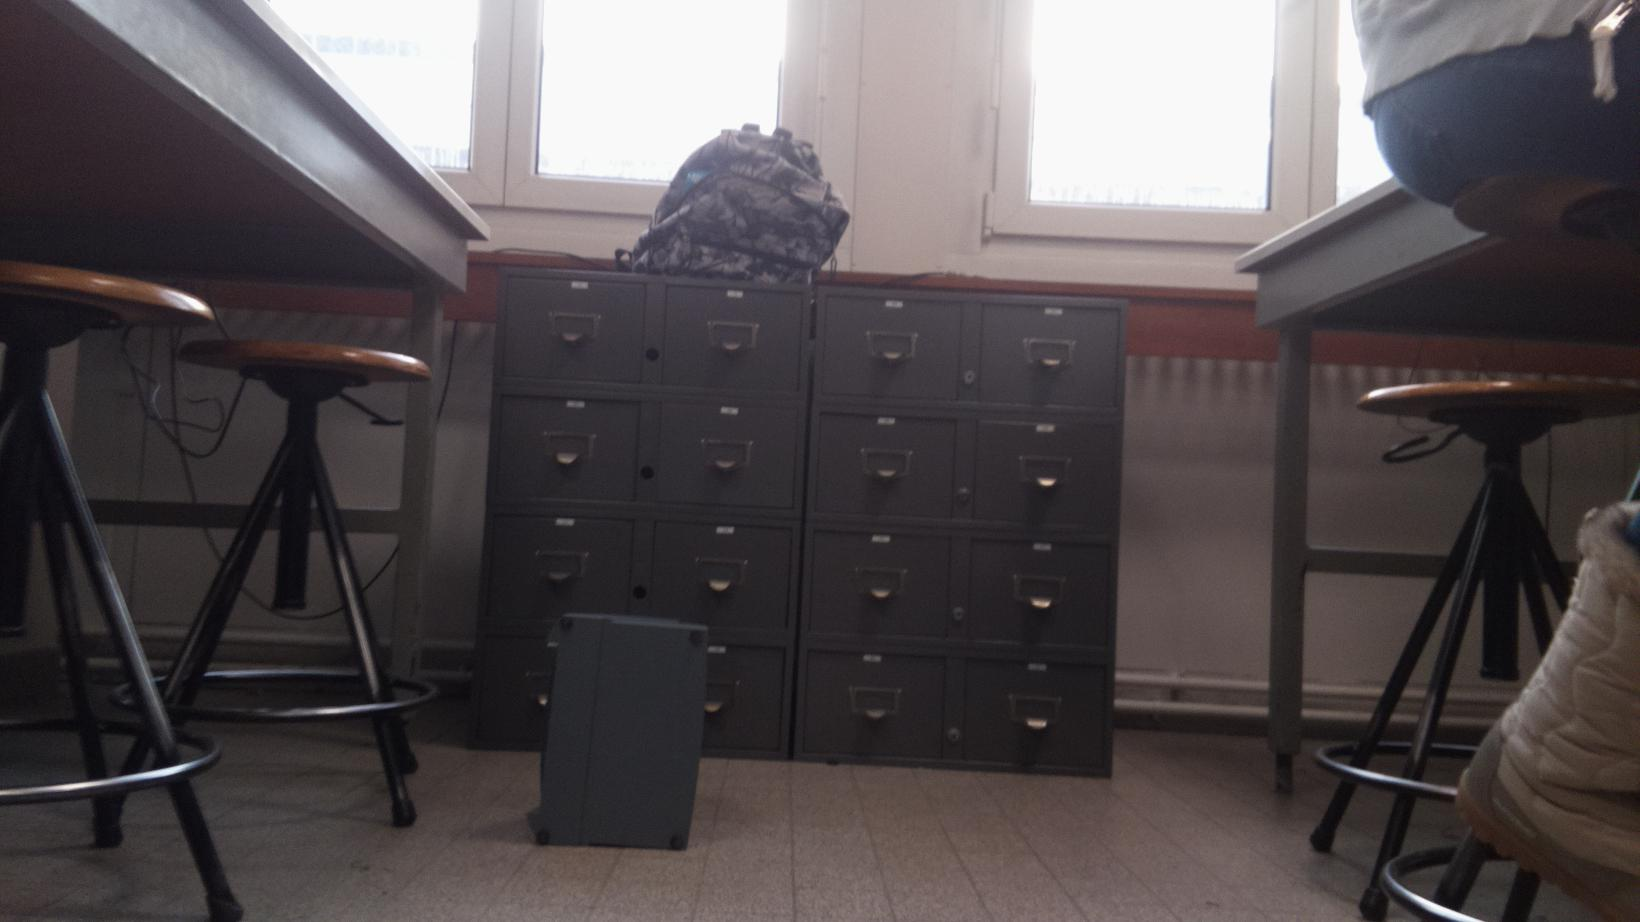big: (612, 116, 859, 303)
medium: (524, 601, 714, 862)
